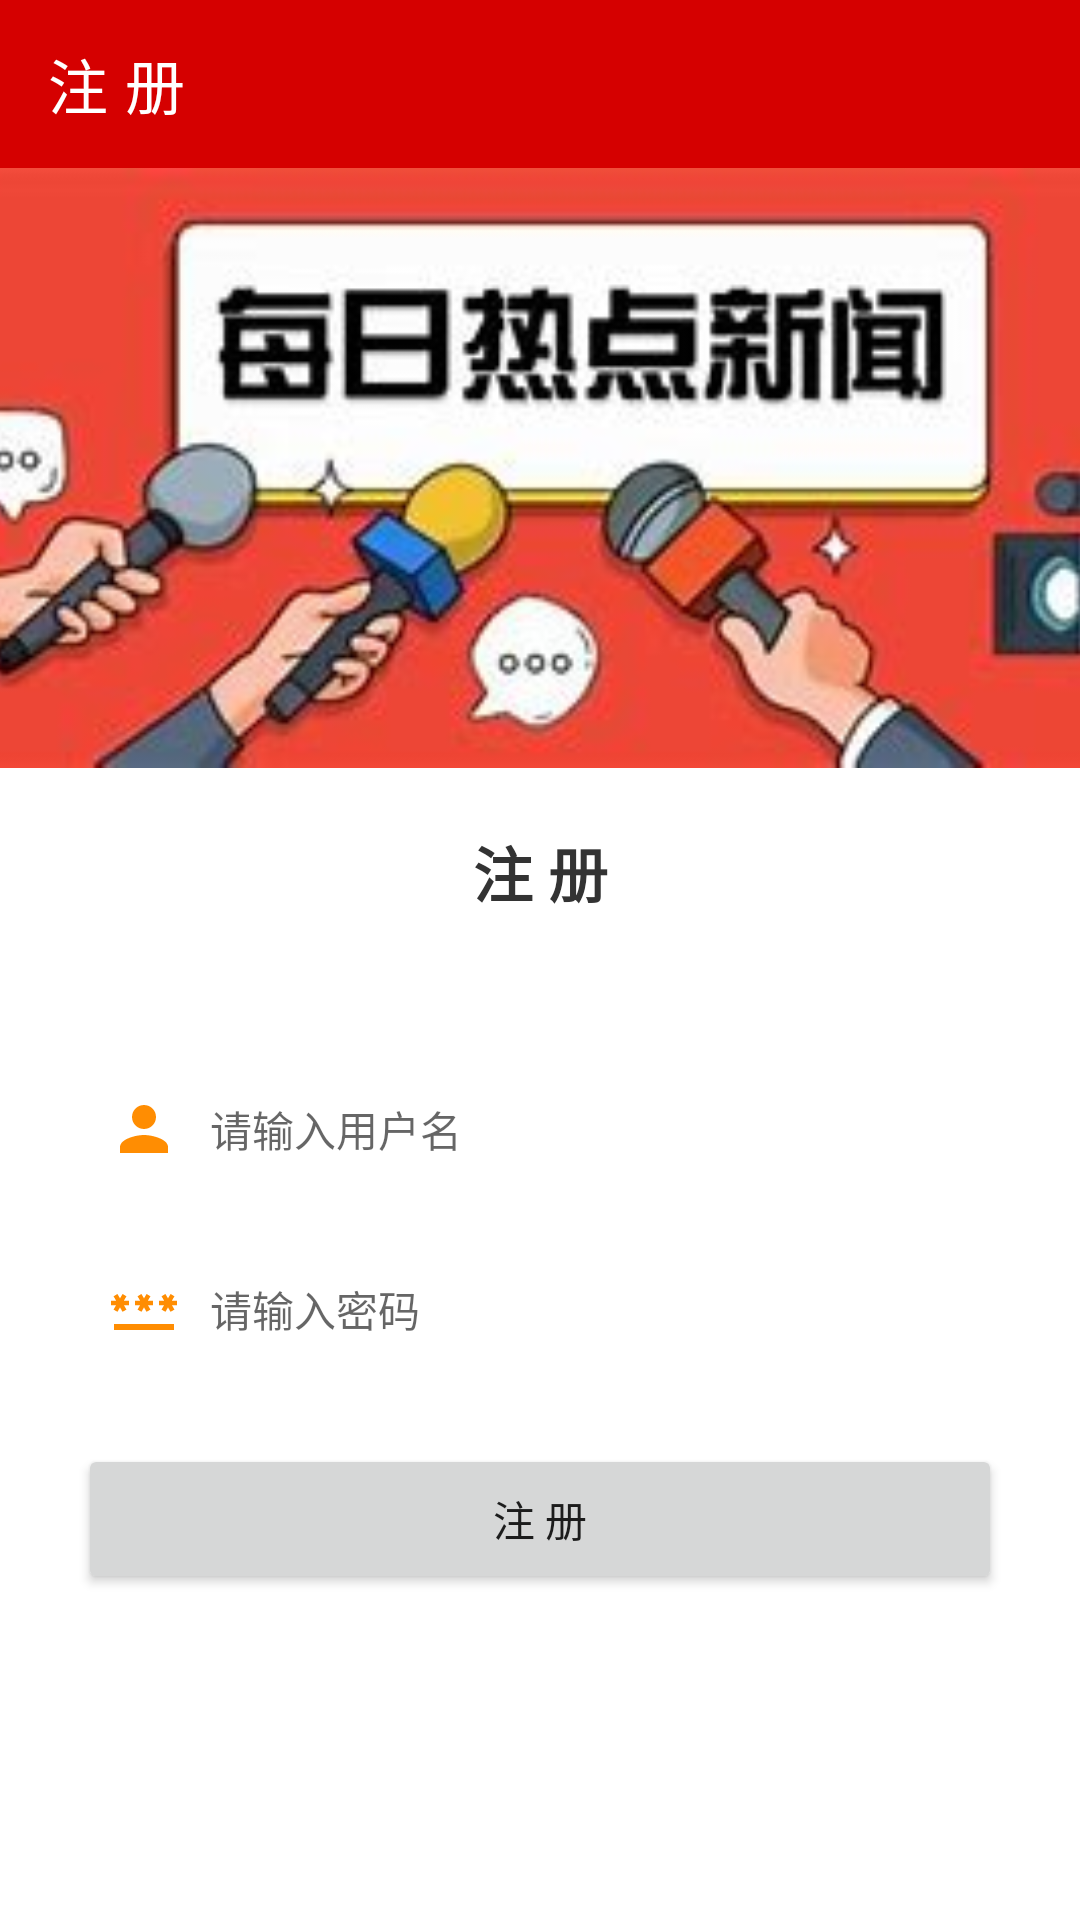

Screen size 1080w x 1920h. Icon name, then its center in pixels as (x,y):
password: (144,1312)
person: (144,1129)
